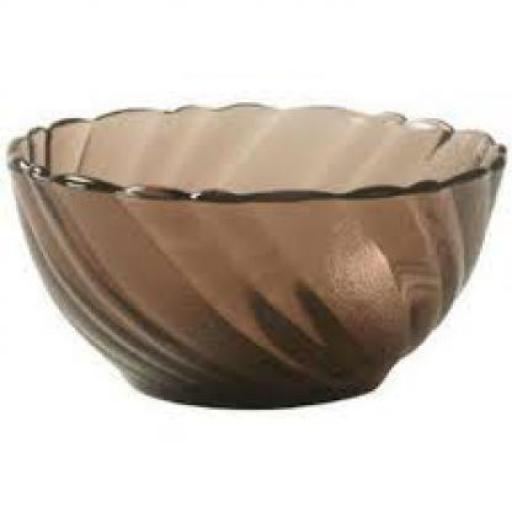glass: (4, 100, 506, 407)
